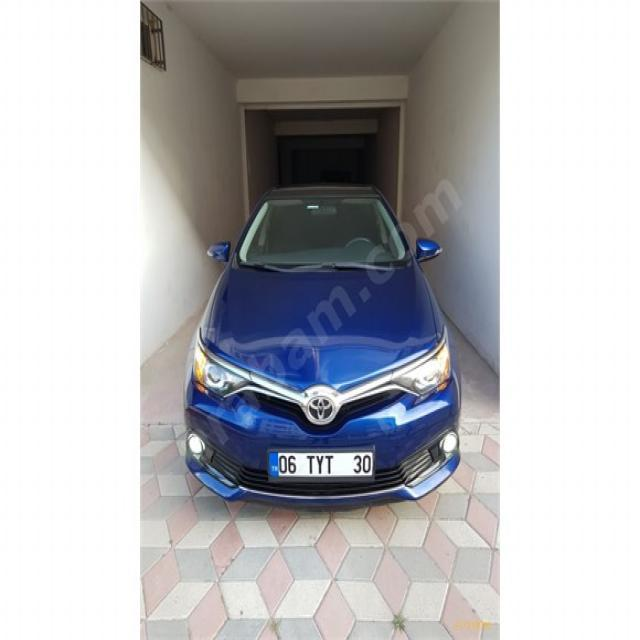plate: (264, 445, 379, 486)
